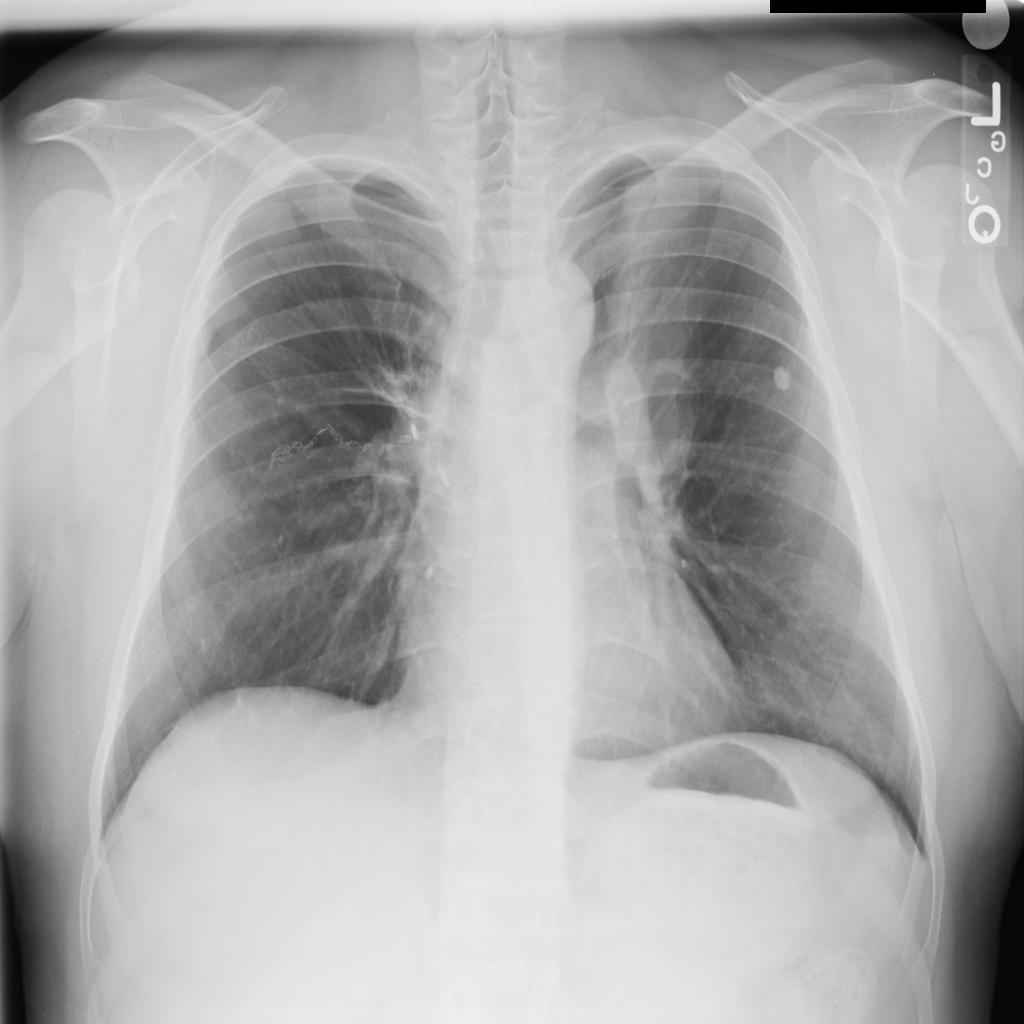nodule: (760, 347, 804, 404)
